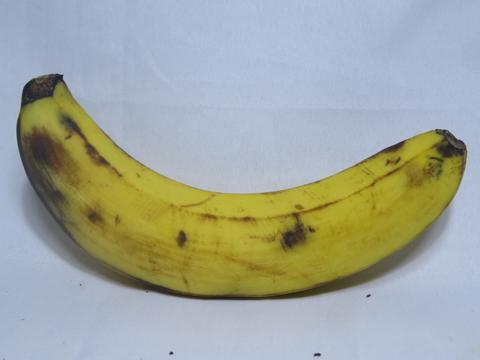ripe: (12, 62, 475, 317)
